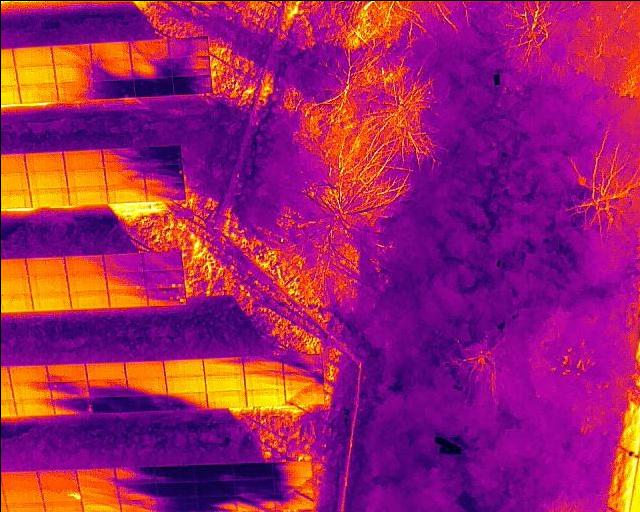Cell: (105, 271, 146, 289)
Cell-Multi: (144, 269, 182, 289), (146, 288, 185, 305)
No-Anomaly: (12, 46, 51, 66), (108, 289, 148, 308), (64, 255, 104, 274), (15, 65, 55, 84), (90, 40, 130, 59), (66, 169, 105, 188), (25, 257, 66, 275), (13, 398, 54, 416), (68, 290, 109, 308), (17, 84, 58, 102), (25, 152, 63, 171), (28, 170, 66, 189), (243, 373, 283, 391), (8, 365, 48, 383), (66, 273, 106, 291), (31, 291, 70, 309), (2, 486, 43, 503), (83, 362, 126, 378), (64, 150, 102, 168), (163, 360, 205, 376), (31, 188, 68, 206), (28, 275, 67, 292), (204, 376, 244, 392), (206, 392, 246, 408), (68, 188, 105, 205), (107, 186, 146, 202), (165, 377, 206, 392), (123, 362, 164, 377), (244, 390, 284, 405), (0, 292, 33, 310), (76, 468, 115, 483), (79, 483, 118, 498), (38, 469, 76, 484), (0, 471, 38, 486), (81, 498, 119, 512)
Shadowing: (90, 59, 131, 81), (170, 55, 209, 77), (139, 144, 179, 165), (131, 57, 170, 78), (51, 44, 91, 64), (131, 77, 173, 96), (143, 165, 184, 184), (92, 79, 133, 98), (102, 148, 139, 169), (146, 181, 186, 200), (168, 36, 206, 56), (142, 250, 180, 270), (125, 378, 167, 396), (85, 378, 127, 396), (130, 38, 169, 57), (154, 464, 195, 482), (104, 253, 142, 272), (173, 75, 211, 94), (242, 355, 282, 373), (202, 358, 244, 375), (105, 168, 142, 187), (55, 63, 92, 82), (57, 82, 94, 101), (282, 355, 323, 372), (49, 382, 89, 399), (233, 463, 273, 480), (126, 395, 168, 411), (283, 372, 322, 389), (114, 466, 153, 483), (10, 381, 51, 397), (45, 365, 86, 381), (167, 392, 208, 408), (233, 480, 274, 496), (194, 463, 232, 480), (52, 399, 91, 415), (90, 396, 128, 412), (273, 477, 311, 493), (155, 497, 195, 512), (196, 481, 233, 497), (231, 496, 273, 510), (284, 389, 323, 404), (154, 483, 195, 497), (273, 463, 312, 477), (273, 494, 312, 508), (117, 483, 155, 497), (118, 498, 156, 512), (196, 497, 232, 510)
Unclassified: (41, 485, 80, 501)
